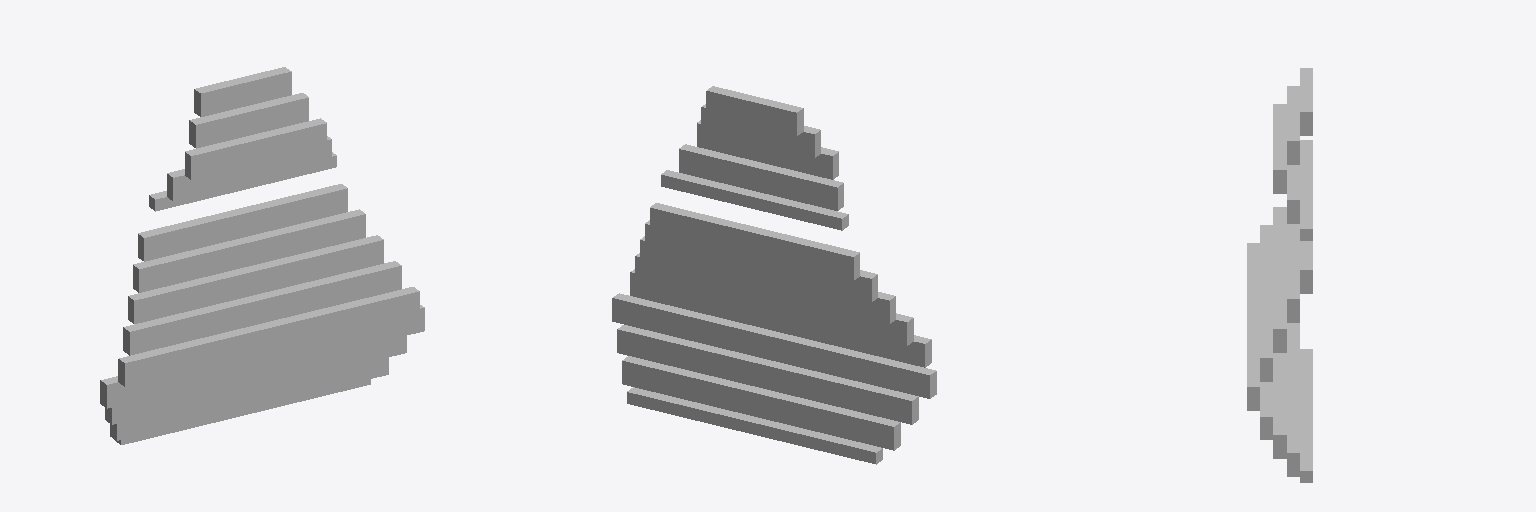
File: Ghost Ship Front Sail.obj
The picture shows the model from 3 angles: view 1: azimuth 30°, elevation 25°; view 2: azimuth 150°, elevation 25°; view 3: azimuth 270°, elevation 25°; orthographic projection.
Visible parts, largest first — view 1: Front Sail; view 2: Front Sail; view 3: Front Sail.
Boxes of the visible parts, <box> form: Front Sail: <box>100,67,424,444</box>; Front Sail: <box>612,86,936,464</box>; Front Sail: <box>1247,68,1312,482</box>.
Size of the model in its own units: 2.8 by 2.8 by 0.5.